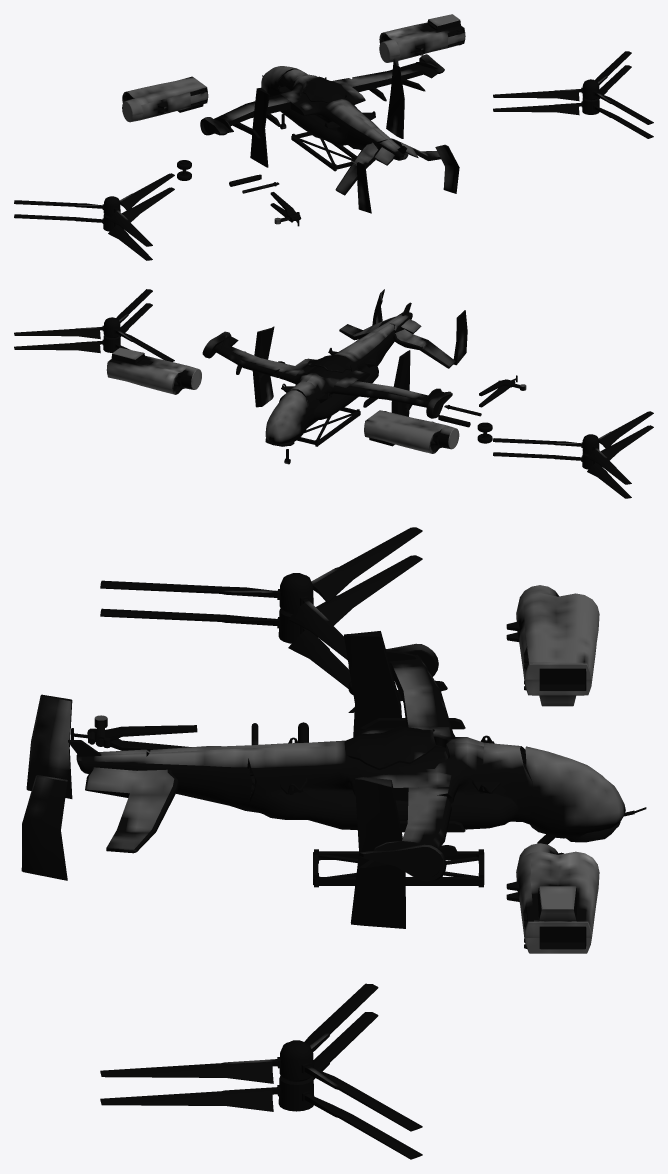
File: largehelicopter_broken.fbx
The picture shows the model from 3 angles, top to bottom: view 1: azimuth 30°, elevation 25°; view 2: azimuth 150°, elevation 25°; view 3: azimuth 270°, elevation 25°; orthographic projection. The views are drawn at different scales.
Parts seen in each view (by area): view 1: largehelicopter_broken_base, largehelicopter_broken_engine_right, largehelicopter_broken_engine_left, largehelicopter_broken_rotor_blades_top_left, largehelicopter_broken_rotor_blades_top_right, largehelicopter_broken_tail, largehelicopter_broken_wing_right, largehelicopter_broken_wing_left, largehelicopter_broken_rotor_blades_right, largehelicopter_broken_rotor_blades_left, largehelicopter_broken_frontwing_left, largehelicopter_broken_frontwing_right (+7 smaller); view 2: largehelicopter_broken_base, largehelicopter_broken_engine_right, largehelicopter_broken_engine_left, largehelicopter_broken_front, largehelicopter_broken_wing_left, largehelicopter_broken_rotor_blades_top_left, largehelicopter_broken_wing_right, largehelicopter_broken_rotor_blades_top_right, largehelicopter_broken_tail, largehelicopter_broken_rotor_blades_left, largehelicopter_broken_rotor_blades_right, largehelicopter_broken_frontwing_right (+6 smaller); view 3: largehelicopter_broken_base, largehelicopter_broken_tail, largehelicopter_broken_engine_left, largehelicopter_broken_engine_right, largehelicopter_broken_front, largehelicopter_broken_rotor_blades_top_right, largehelicopter_broken_frontwing_right, largehelicopter_broken_rotor_blades_top_left, largehelicopter_broken_rotor_blades_right, largehelicopter_broken_rotor_blades_left, largehelicopter_broken_wing_right, largehelicopter_broken_wing_left (+6 smaller).
Boxes of the visible parts, left/top/right/bottom form: largehelicopter_broken_base: left=275, top=69, right=375, bottom=145; largehelicopter_broken_engine_right: left=379, top=14, right=465, bottom=62; largehelicopter_broken_engine_left: left=122, top=76, right=208, bottom=122; largehelicopter_broken_rotor_blades_top_left: left=14, top=173, right=174, bottom=246; largehelicopter_broken_rotor_blades_top_right: left=493, top=51, right=653, bottom=124; largehelicopter_broken_tail: left=346, top=118, right=440, bottom=168; largehelicopter_broken_wing_right: left=342, top=54, right=444, bottom=101; largehelicopter_broken_wing_left: left=200, top=94, right=290, bottom=138; largehelicopter_broken_rotor_blades_right: left=493, top=65, right=653, bottom=138; largehelicopter_broken_rotor_blades_left: left=14, top=187, right=174, bottom=260; largehelicopter_broken_frontwing_left: left=250, top=88, right=269, bottom=167; largehelicopter_broken_frontwing_right: left=386, top=58, right=404, bottom=138; largehelicopter_broken_base: left=279, top=339, right=379, bottom=424; largehelicopter_broken_engine_right: left=106, top=347, right=201, bottom=394; largehelicopter_broken_engine_left: left=364, top=410, right=459, bottom=453; largehelicopter_broken_front: left=265, top=390, right=309, bottom=446; largehelicopter_broken_wing_left: left=345, top=381, right=452, bottom=418; largehelicopter_broken_rotor_blades_top_left: left=493, top=411, right=653, bottom=484; largehelicopter_broken_wing_right: left=202, top=331, right=294, bottom=381; largehelicopter_broken_rotor_blades_top_right: left=14, top=289, right=174, bottom=361; largehelicopter_broken_tail: left=339, top=316, right=427, bottom=365; largehelicopter_broken_rotor_blades_left: left=493, top=425, right=653, bottom=498; largehelicopter_broken_rotor_blades_right: left=14, top=303, right=152, bottom=353; largehelicopter_broken_frontwing_right: left=252, top=326, right=274, bottom=407; largehelicopter_broken_base: left=245, top=726, right=533, bottom=829; largehelicopter_broken_tail: left=85, top=745, right=252, bottom=853; largehelicopter_broken_engine_left: left=506, top=585, right=599, bottom=706; largehelicopter_broken_engine_right: left=506, top=843, right=599, bottom=953; largehelicopter_broken_front: left=523, top=746, right=646, bottom=844; largehelicopter_broken_rotor_blades_top_right: left=100, top=983, right=422, bottom=1131; largehelicopter_broken_frontwing_right: left=350, top=777, right=405, bottom=928; largehelicopter_broken_rotor_blades_top_left: left=100, top=527, right=422, bottom=660; largehelicopter_broken_rotor_blades_right: left=100, top=1012, right=422, bottom=1159; largehelicopter_broken_rotor_blades_left: left=100, top=555, right=422, bottom=688; largehelicopter_broken_wing_right: left=359, top=787, right=465, bottom=882; largehelicopter_broken_wing_left: left=348, top=643, right=465, bottom=731.
Size of the model in its own units: 1870 by 264 by 818.
Materials: 1 (1 with a texture image).
